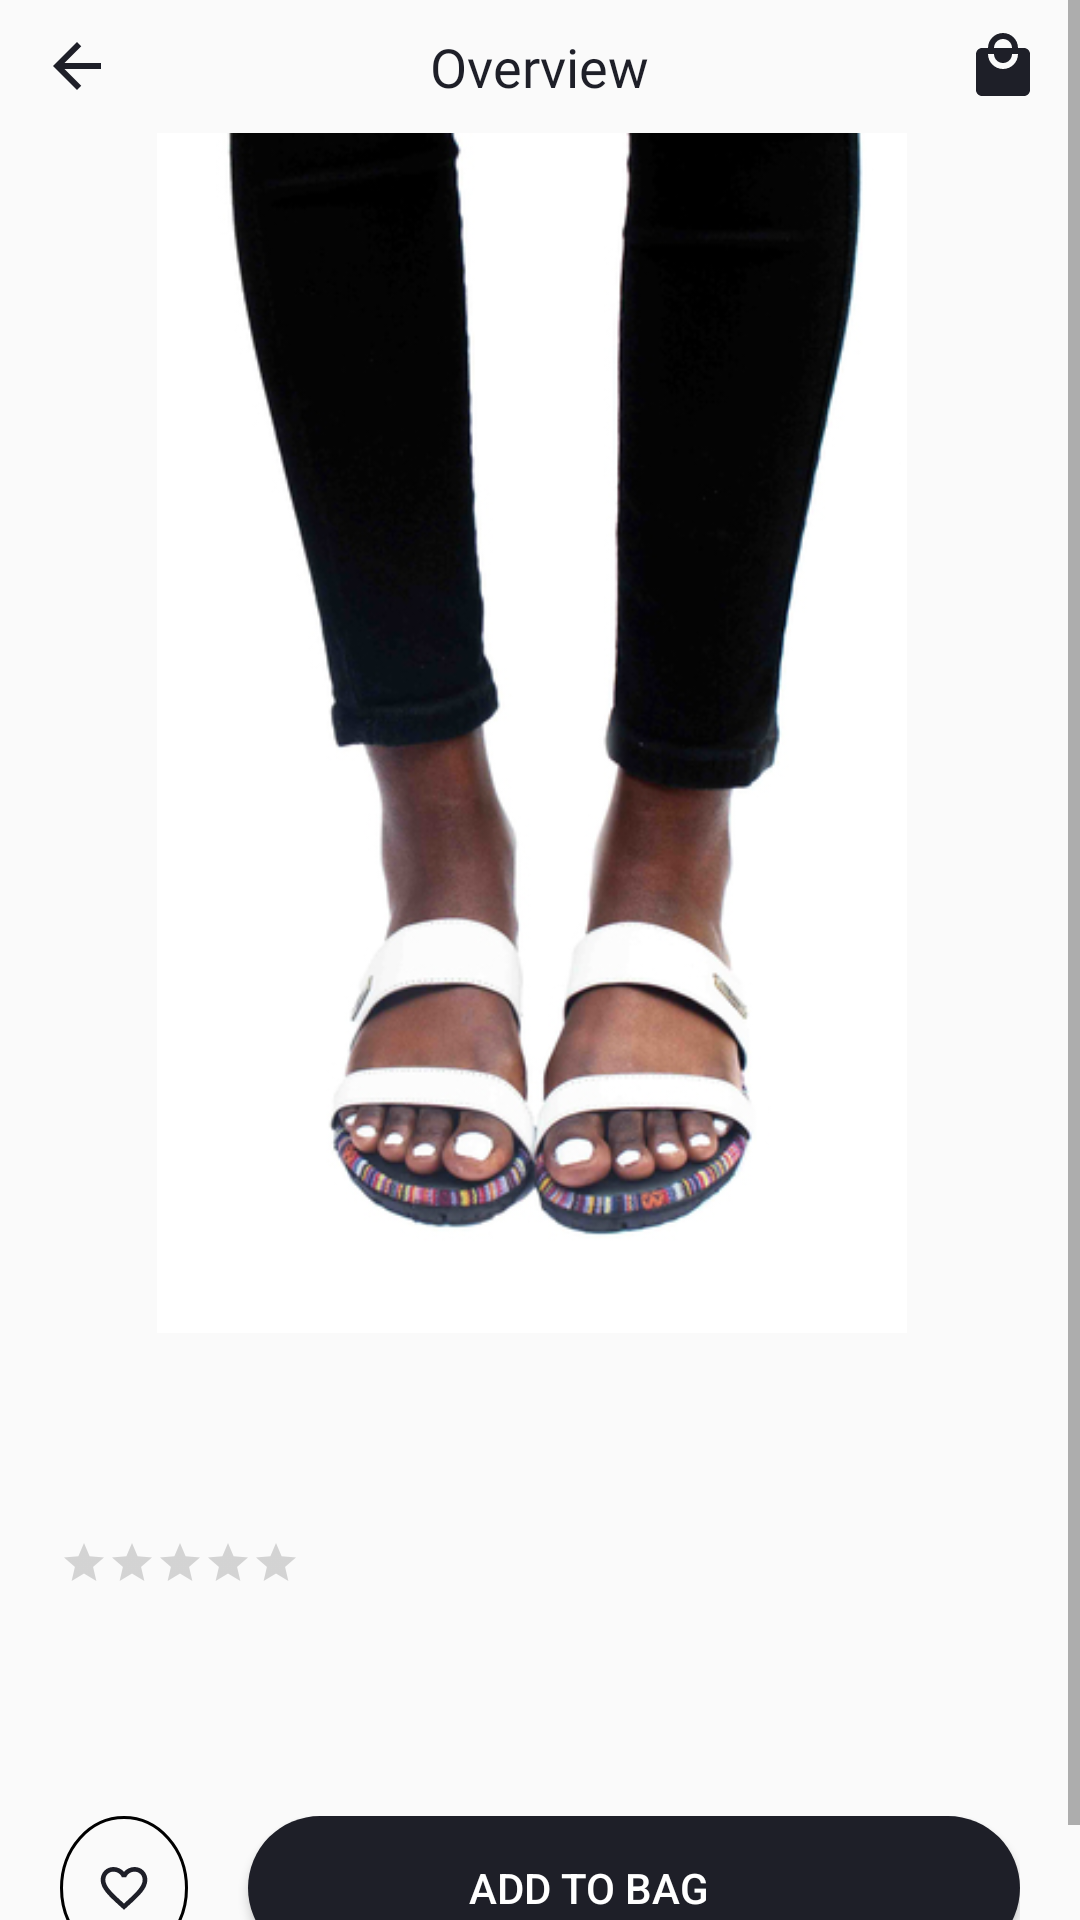

Named icons in this screenshot (1080px x 1920px) and their centers, point (x, y):
arrow back: point (77, 66)
local mall: point (1003, 64)
